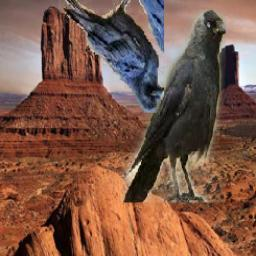Crow: (121, 9, 226, 202), (60, 0, 165, 114)
